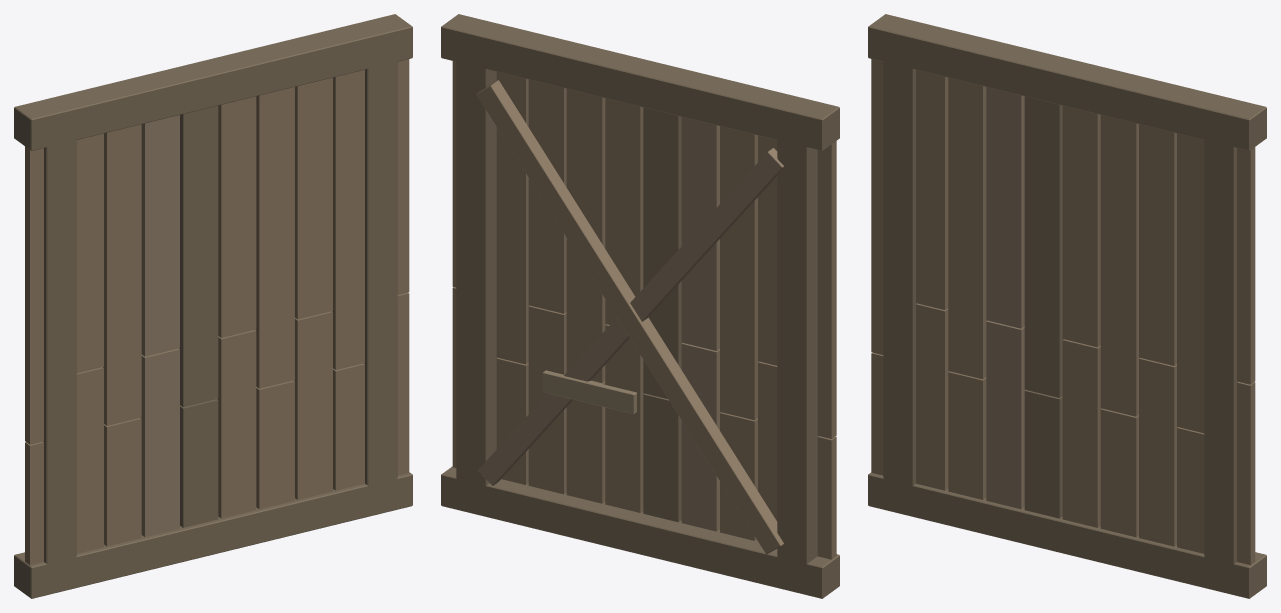
Rendered from env_wall_plank_crossbraced_b_v04_staggered_joints.glb.
The picture shows the model from 3 angles, left to right: view 1: azimuth 30°, elevation 25°; view 2: azimuth 150°, elevation 25°; view 3: azimuth 330°, elevation 25°; orthographic projection.
Visible parts, largest first — view 1: material_0, material_2, material_1; view 2: material_0, material_2, material_1, material_3; view 3: material_0, material_2, material_1.
Boxes of the visible parts, x1,y1,x2,y2 form: material_0: [25, 59, 409, 565]; material_2: [14, 14, 412, 598]; material_1: [141, 115, 179, 537]; material_0: [452, 61, 836, 559]; material_2: [441, 14, 839, 598]; material_1: [478, 117, 783, 531]; material_3: [542, 370, 636, 414]; material_0: [871, 59, 1255, 565]; material_2: [868, 14, 1266, 598]; material_1: [986, 87, 1025, 509].
Size of the model in its own units: 2 by 2.4 by 0.19.
